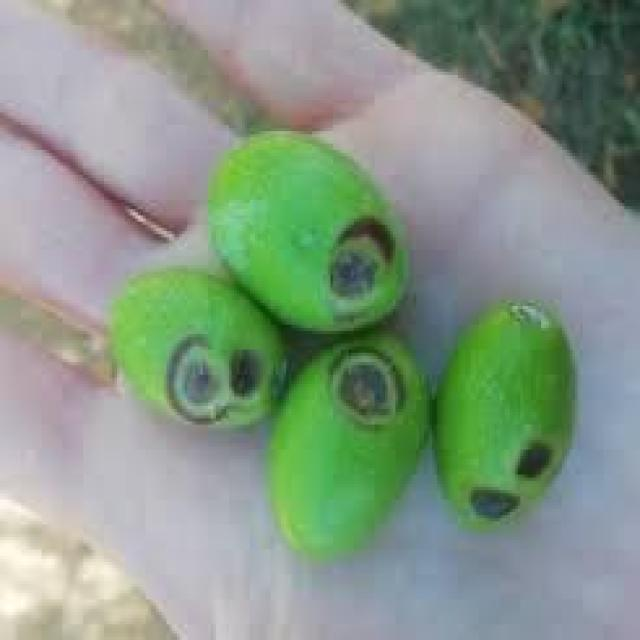Anthracnose: (268, 331, 430, 556), (211, 134, 398, 328), (437, 303, 572, 522), (112, 268, 284, 424)
